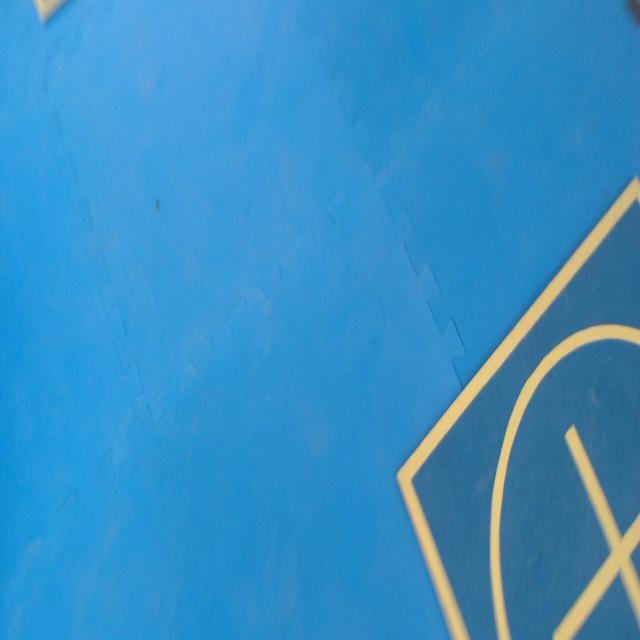base_pouso: (395, 175, 639, 639)
